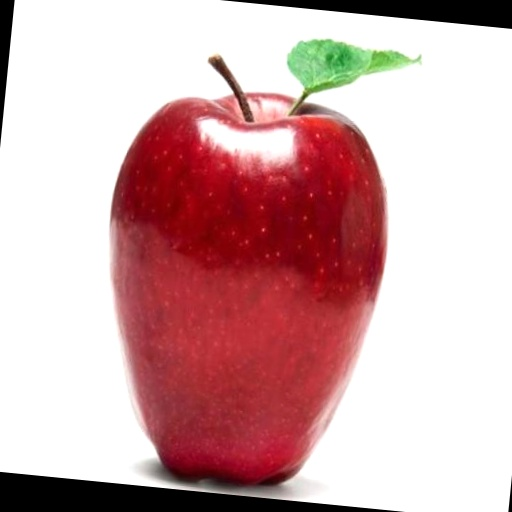fruit: (110, 93, 386, 483)
